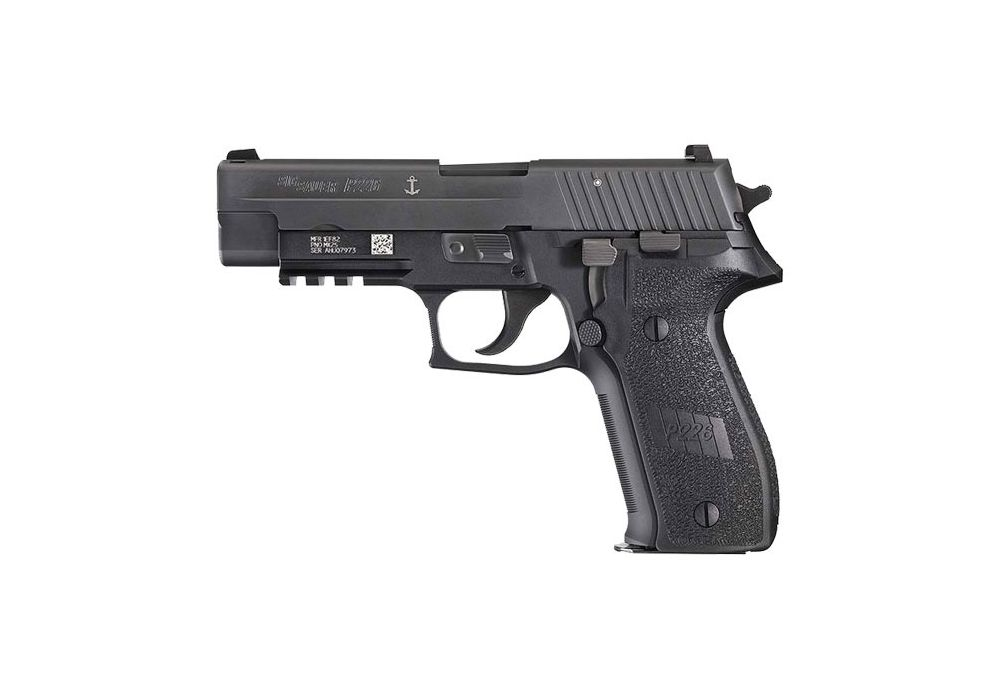Arma Real: (214, 142, 786, 561)
